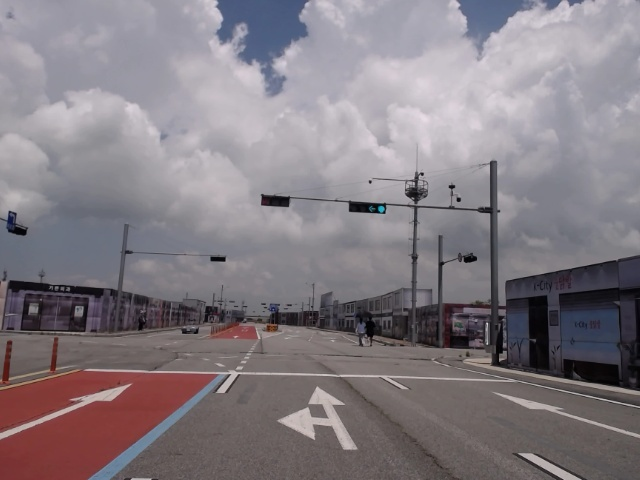all_green_4: (349, 202, 387, 212)
